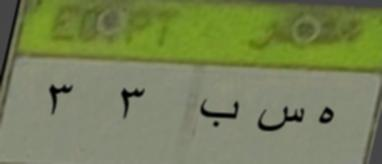3: (115, 76, 150, 132), (44, 78, 77, 124)
baa: (193, 88, 242, 137)
haa: (315, 96, 340, 138)
seen: (250, 92, 306, 155)
